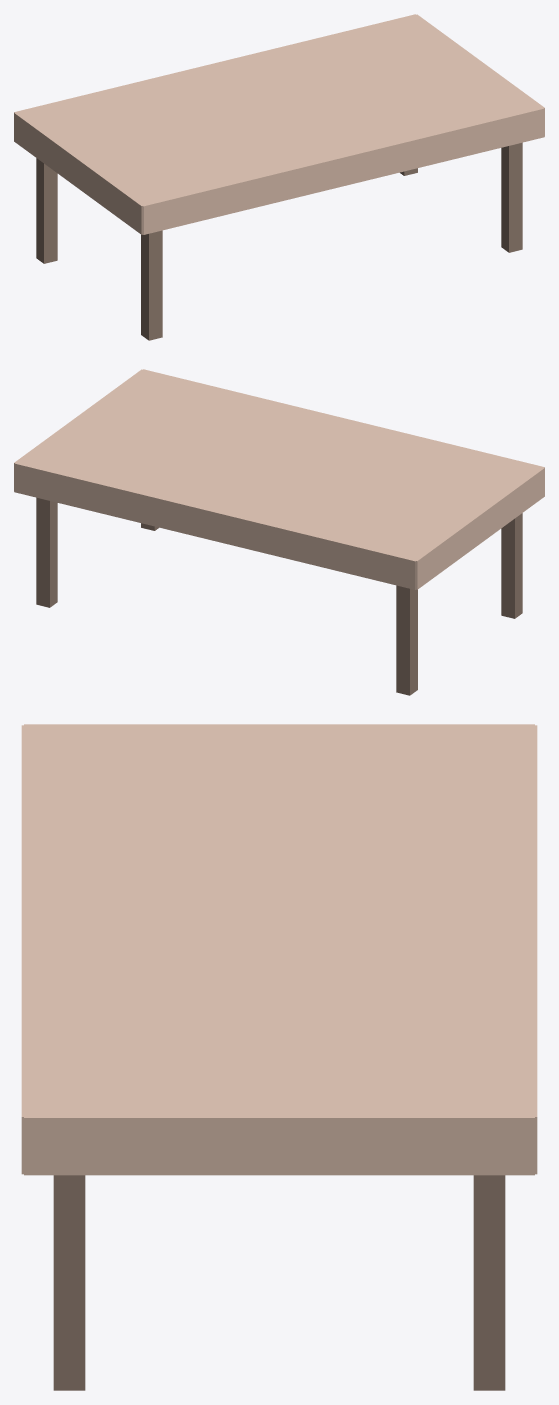
The model's file is tisch-decke.glb.
3 views of the same model, one above another, from view 1: azimuth 30°, elevation 25°; view 2: azimuth 150°, elevation 25°; view 3: azimuth 270°, elevation 25° (orthographic). The views are drawn at different scales.
Visible parts, largest first — view 1: tisch-decke; view 2: tisch-decke; view 3: tisch-decke.
Boxes of the visible parts, x1,y1,x2,y2 form: tisch-decke: (14,14,544,340); tisch-decke: (14,369,544,695); tisch-decke: (21,724,537,1390).
Size of the model in its own units: 2.35 by 0.8 by 1.3.
